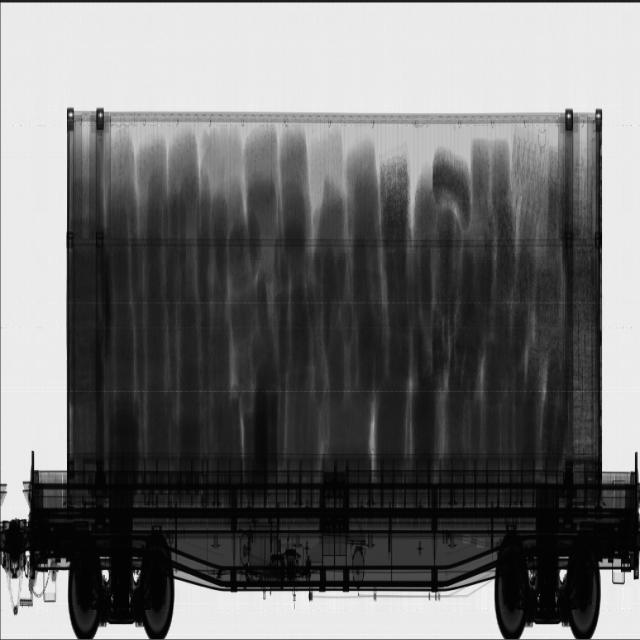shoes: (402, 137, 469, 464)
